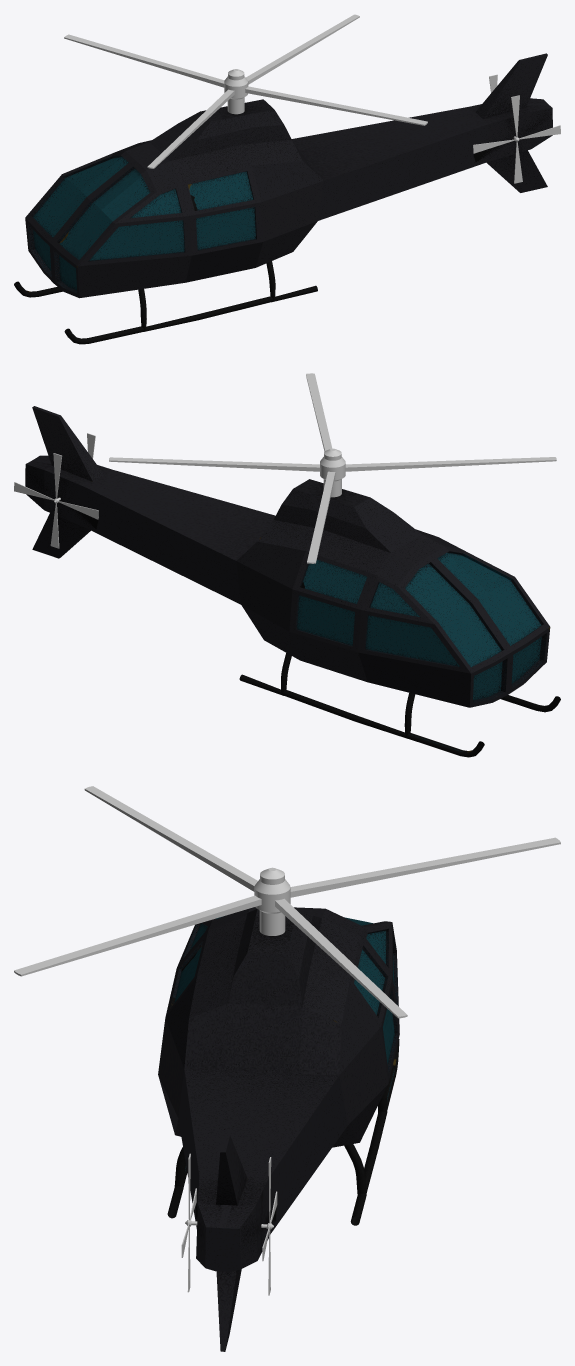
Rendered from anim_000198.obj.
3 renders of one model, top to bottom at view 1: azimuth 30°, elevation 25°; view 2: azimuth 150°, elevation 25°; view 3: azimuth 270°, elevation 25°, orthographic. The views are drawn at different scales.
Parts seen in each view (by area): view 1: Helicopter.007_Cylinder.008, Helicopter.001_Cylinder.001, Helicopter.003_Cylinder.004; view 2: Helicopter.007_Cylinder.008, Helicopter.001_Cylinder.001, Helicopter.004_Cylinder.005; view 3: Helicopter.007_Cylinder.008, Helicopter.001_Cylinder.001.
Part boxes in pixels (<box>): Helicopter.007_Cylinder.008: <box>14,53,552,344</box>; Helicopter.001_Cylinder.001: <box>64,14,427,168</box>; Helicopter.003_Cylinder.004: <box>473,95,560,183</box>; Helicopter.007_Cylinder.008: <box>25,406,560,757</box>; Helicopter.001_Cylinder.001: <box>109,373,556,563</box>; Helicopter.004_Cylinder.005: <box>14,453,98,548</box>; Helicopter.007_Cylinder.008: <box>158,907,399,1351</box>; Helicopter.001_Cylinder.001: <box>14,786,560,1018</box>.
Bounding box in the file's own units: 7.59 × 3.21 × 4.86.
